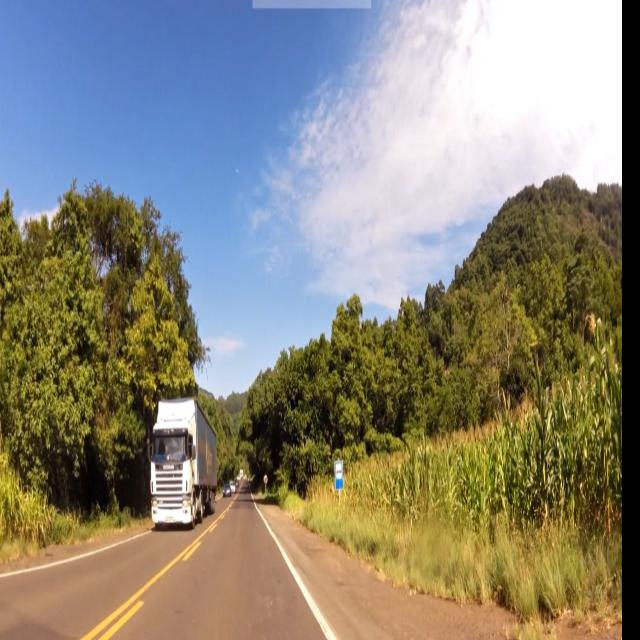S-14: (335, 459, 344, 491)
